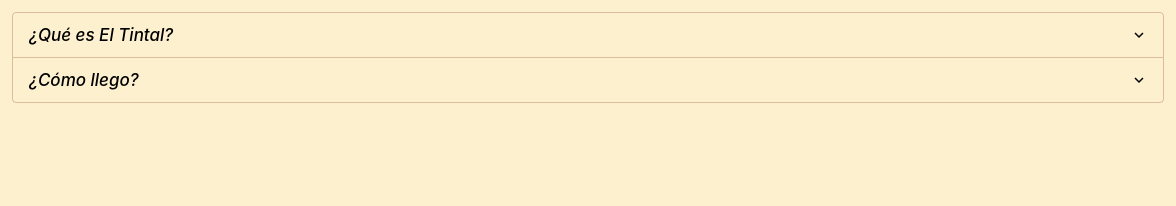
Test case: Accordion › modo múltiple: permite varios abiertos
This screenshot has width=1176, height=206.
Click the button "¿Qué es El Tintal?" at (101, 35), box [13,13,1163,57]
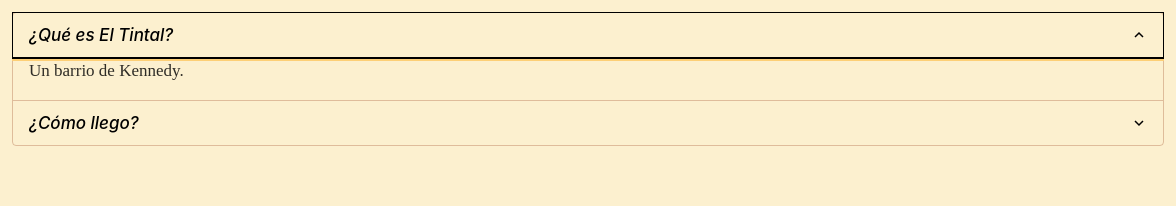
Click the button "¿Cómo llego?" at (84, 123), box [13,101,1163,145]
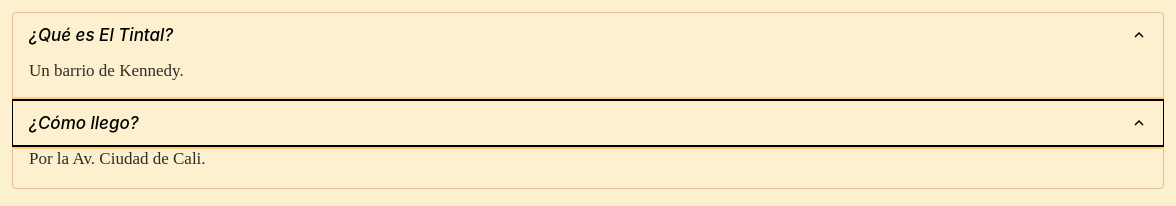
Expected: the button "¿Qué es El Tintal?" is expanded, [13,13,1163,57]
Expected: the button "¿Cómo llego?" is expanded, [13,101,1163,145]
